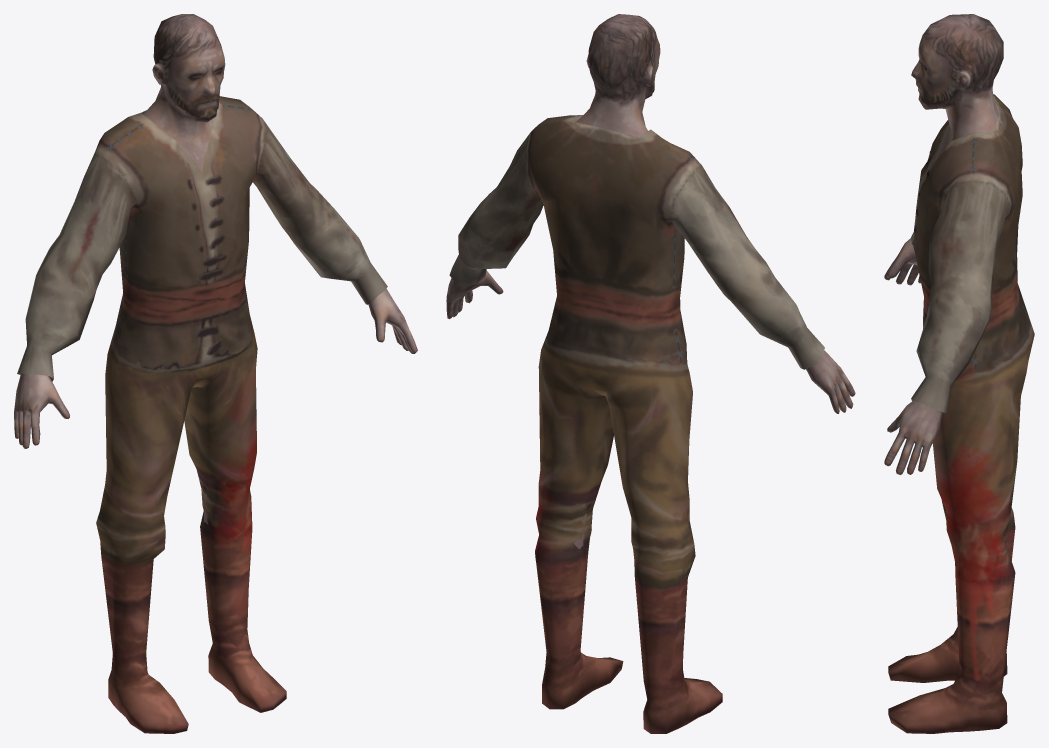
File: Char2_ALL_blood.fbx
The picture shows the model from 3 angles, left to right: view 1: azimuth 30°, elevation 25°; view 2: azimuth 150°, elevation 25°; view 3: azimuth 270°, elevation 25°; orthographic projection.
Visible parts, largest first — view 1: C2_Cloth_low, C2_Body_low; view 2: C2_Cloth_low, C2_Body_low; view 3: C2_Cloth_low, C2_Body_low.
Part boxes in pixels (box(x1,y1,x2,y2)): C2_Cloth_low: box(17, 96, 387, 733); C2_Body_low: box(14, 14, 417, 524); C2_Cloth_low: box(449, 115, 824, 733); C2_Body_low: box(446, 14, 855, 548); C2_Cloth_low: box(888, 94, 1034, 733); C2_Body_low: box(884, 14, 1003, 474).
Bounding box in the file's own units: 105 × 174 × 34.88.
3 materials, 3 textured.
